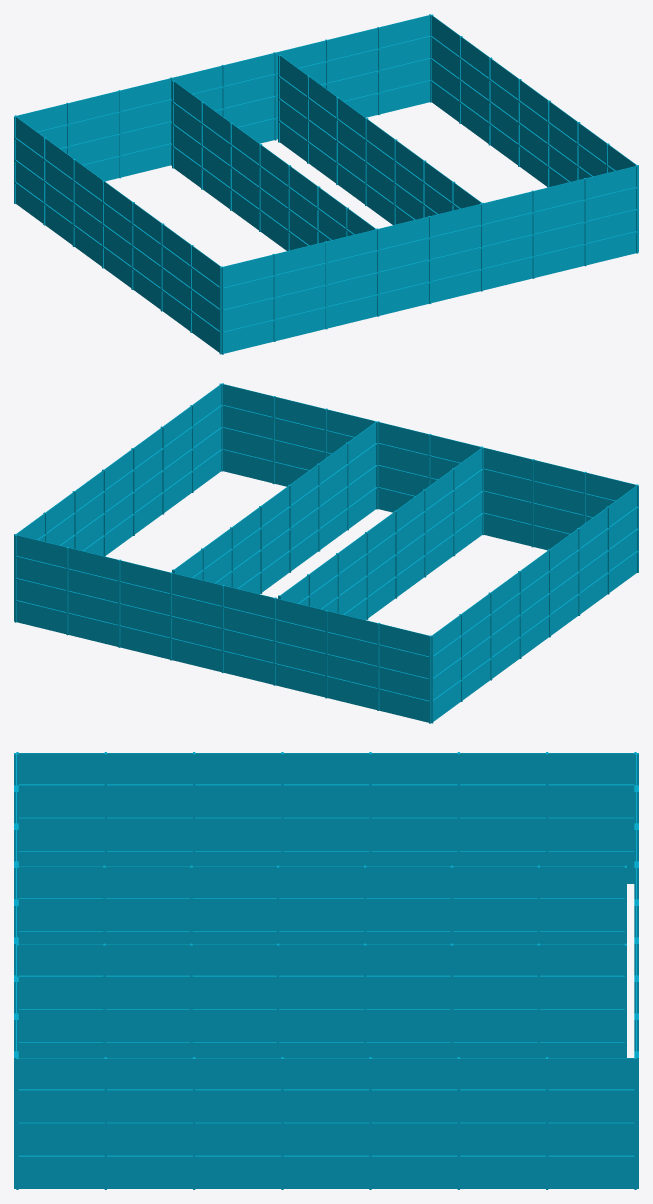
The model's file is model-part.gltf_curtainwalls_Nivel 1.gltf.
3 renders of one model, top to bottom at view 1: azimuth 30°, elevation 25°; view 2: azimuth 150°, elevation 25°; view 3: azimuth 270°, elevation 25°, orthographic. The views are drawn at different scales.
Size of the model in its own units: 15.11 by 3 by 13.
